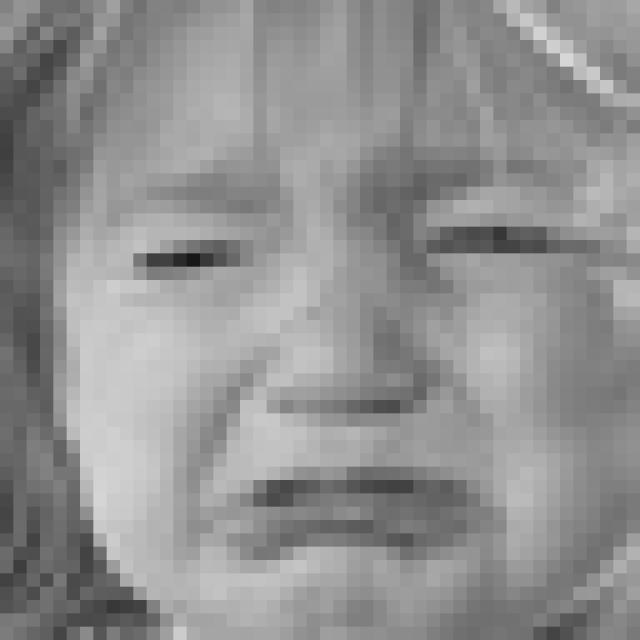sad: (106, 167, 622, 563)
